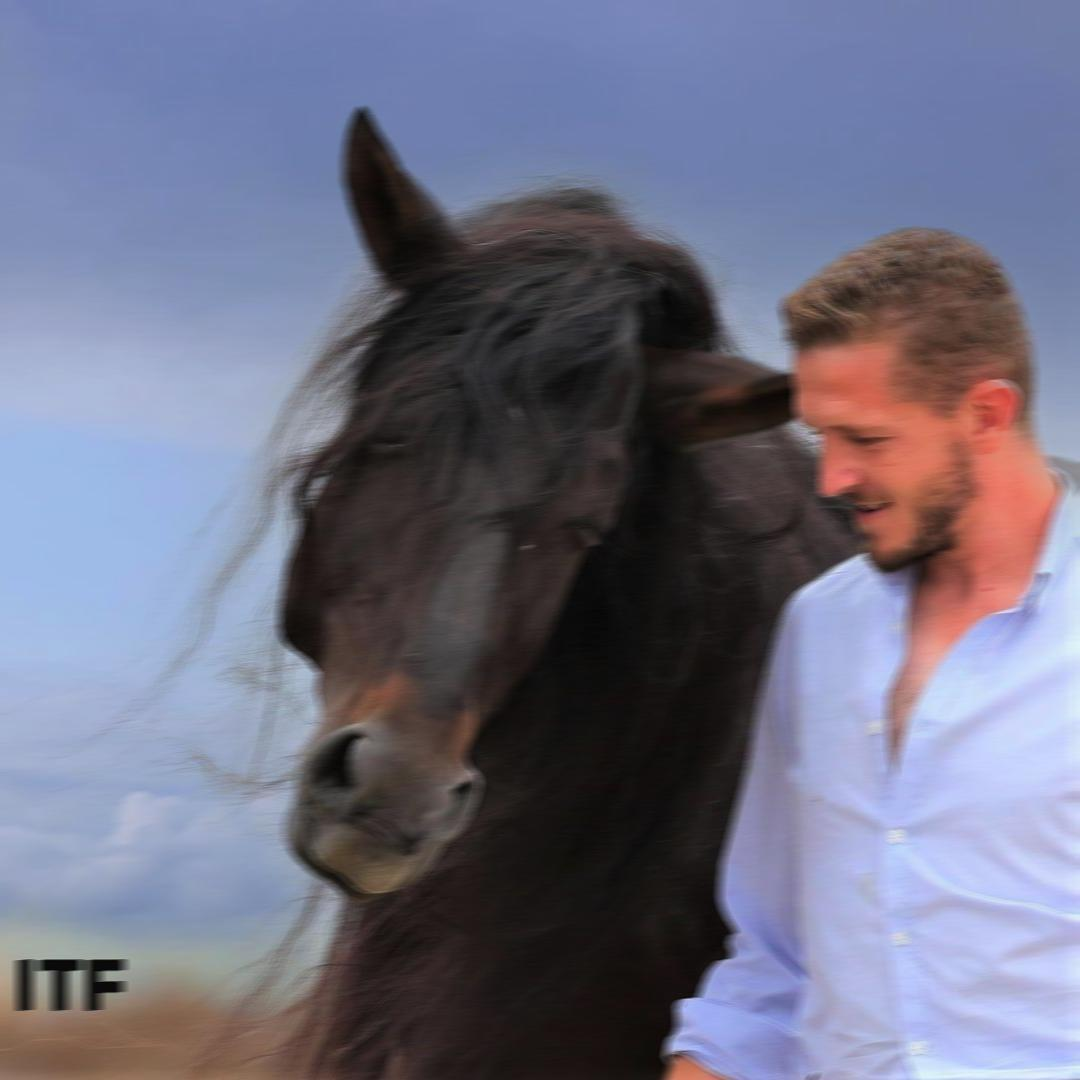horse: (274, 104, 863, 1080)
